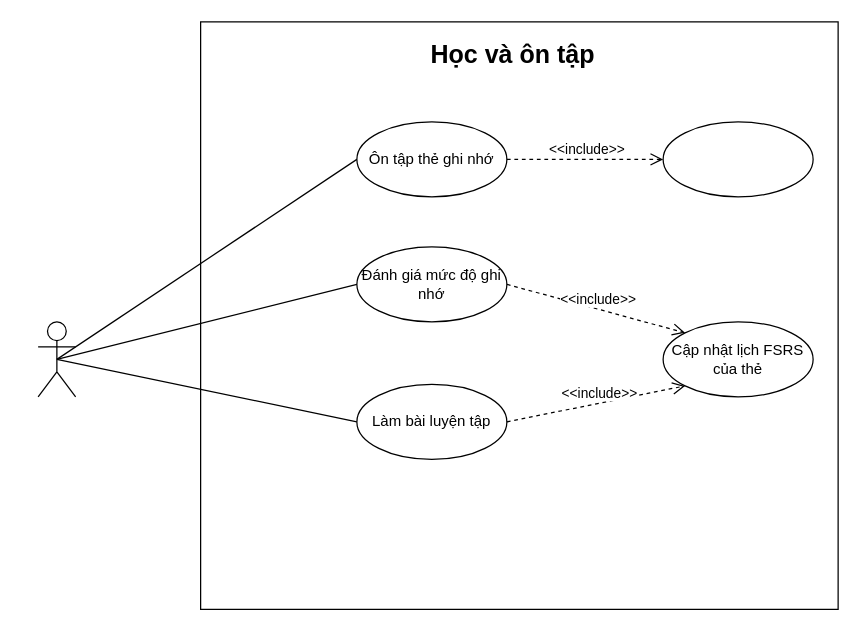
Image size: 860x631. Some labels were removed from this diagram. The box of each missing label's shape, as (x1, y1, x2, y2) in pixels:
Lấy hàng đợi ôn tập tiếp theo: (662, 121, 813, 197)
Người học: (37, 321, 76, 397)
